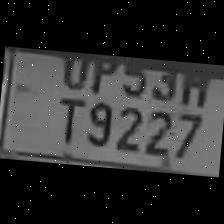2: (111, 100, 145, 153), (140, 104, 174, 156)
3: (148, 60, 180, 102)
5: (118, 57, 150, 97)
7: (168, 105, 203, 162)
9: (80, 95, 114, 148)
A: (176, 62, 214, 108)
P: (85, 54, 120, 94)
T: (50, 90, 86, 146)
U: (56, 52, 89, 89)
